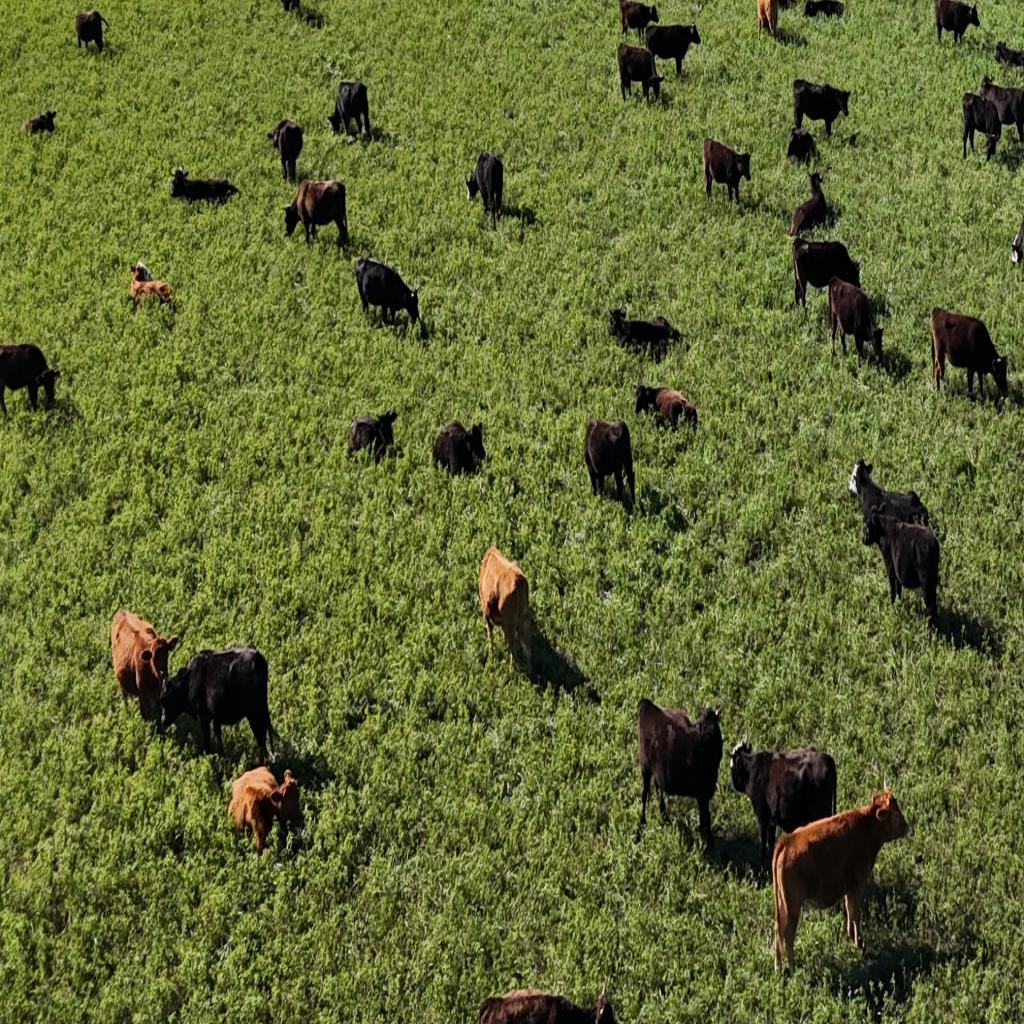cow: (768, 780, 910, 976), (730, 732, 840, 875), (158, 644, 272, 760), (636, 698, 720, 842), (860, 504, 944, 624), (110, 608, 182, 723), (930, 306, 1007, 402), (477, 546, 533, 676), (229, 764, 304, 856), (848, 460, 930, 536), (478, 983, 606, 1024), (828, 277, 884, 366), (355, 255, 419, 332), (791, 237, 862, 306), (1, 341, 61, 418), (584, 416, 634, 506), (288, 179, 348, 248), (701, 135, 751, 209), (793, 77, 851, 139), (610, 312, 680, 362), (633, 382, 698, 434), (979, 76, 1024, 148), (432, 420, 484, 480), (465, 150, 503, 232), (644, 22, 700, 77), (345, 408, 398, 465), (962, 91, 1004, 162), (170, 169, 240, 209), (617, 42, 662, 104), (328, 80, 372, 140), (128, 260, 175, 313), (267, 118, 303, 184), (789, 181, 827, 237), (936, 0, 978, 45), (619, 0, 658, 42), (75, 9, 109, 52), (786, 126, 817, 168), (792, 77, 817, 122), (21, 110, 57, 138), (1009, 202, 1024, 264), (995, 41, 1024, 69), (804, 0, 844, 20), (756, 0, 776, 39), (279, 0, 301, 16), (774, 0, 795, 14)
